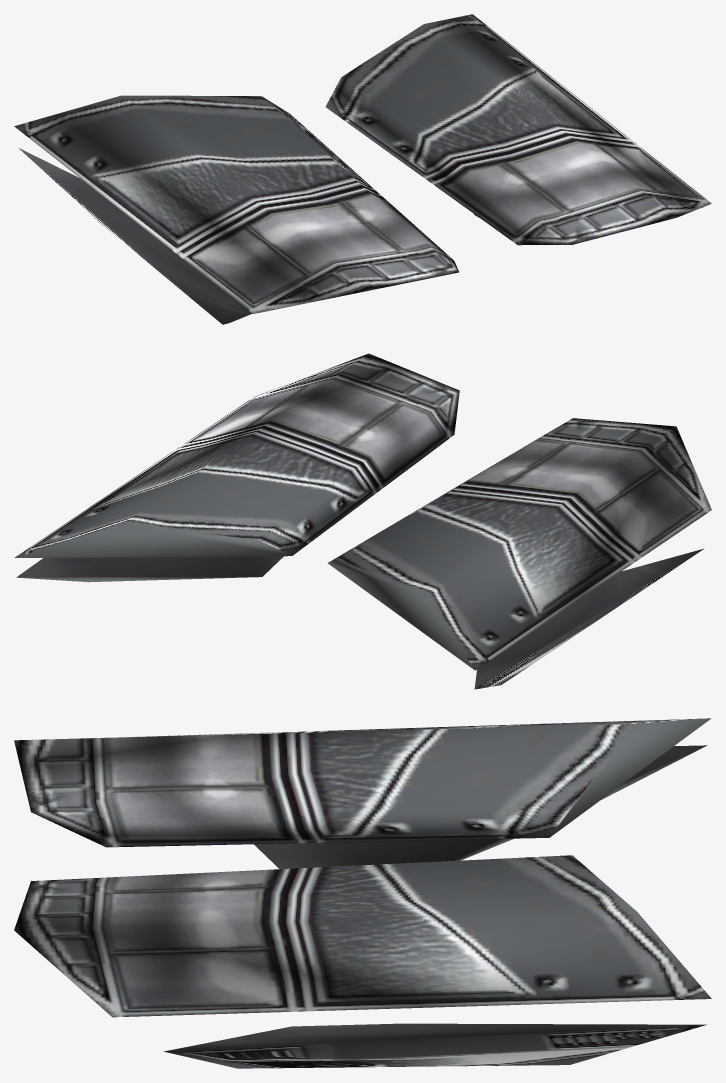
Rendered from LegPads4__EC.glb.
3 views of the same model, one above another, from view 1: azimuth 30°, elevation 25°; view 2: azimuth 150°, elevation 25°; view 3: azimuth 270°, elevation 25° (orthographic). The views are drawn at different scales.
Visible parts, largest first — view 1: LegPads4; view 2: LegPads4; view 3: LegPads4.
Boxes of the visible parts, x1,y1,x2,y2 form: LegPads4: (14, 14, 711, 324); LegPads4: (14, 353, 711, 689); LegPads4: (14, 718, 711, 1068).
Bounding box in the file's own units: 21.19 × 4.76 × 21.24.
Materials: 1 (1 with a texture image).
